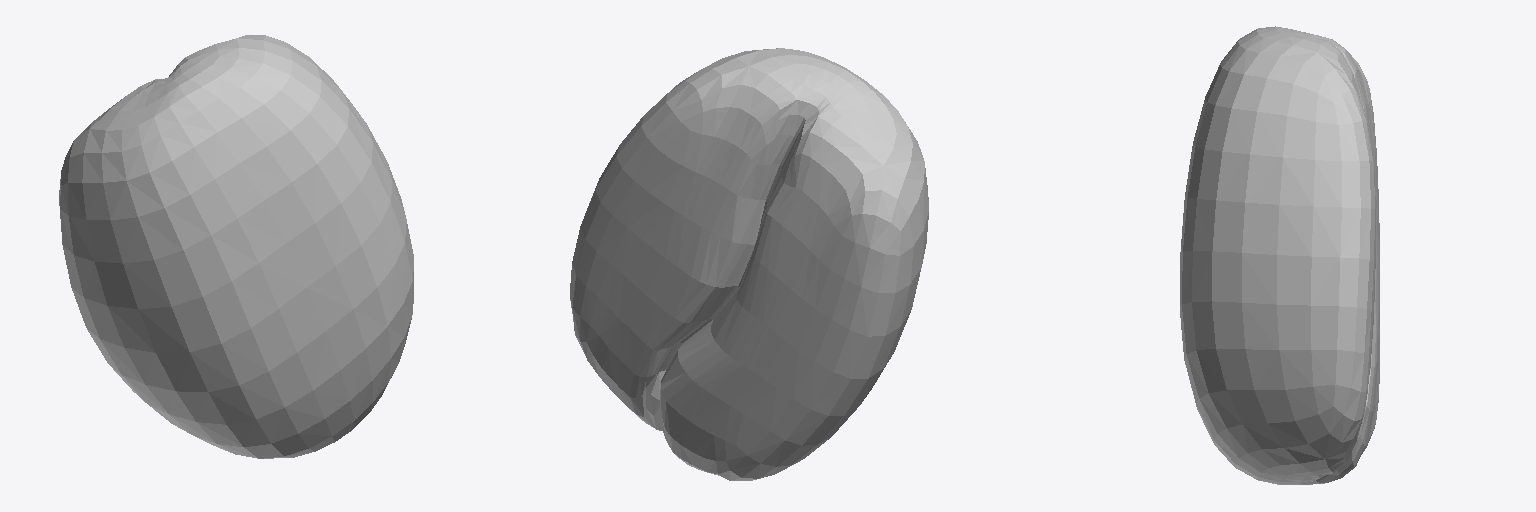
File: coffee_bean.obj
The picture shows the model from 3 angles: view 1: azimuth 30°, elevation 25°; view 2: azimuth 150°, elevation 25°; view 3: azimuth 270°, elevation 25°; orthographic projection.
Bounding box in the file's own units: 0.0064 × 0.0075 × 0.0033.